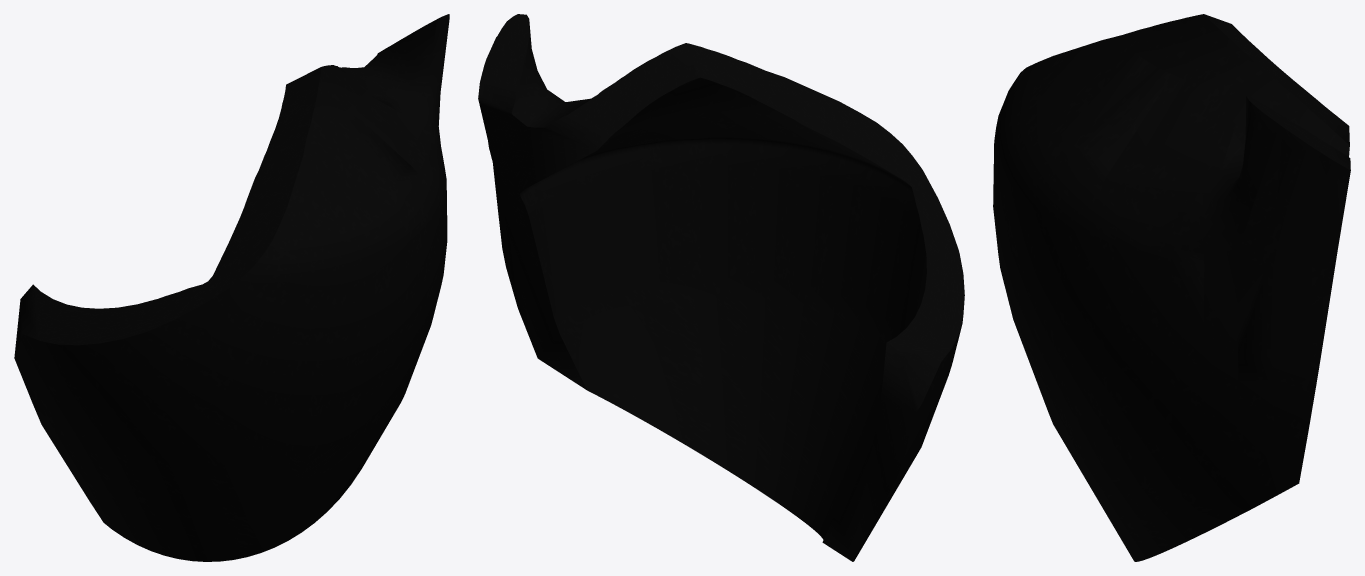
3 views of the same model, side by side, from view 1: azimuth 30°, elevation 25°; view 2: azimuth 150°, elevation 25°; view 3: azimuth 270°, elevation 25° (orthographic). The views are drawn at different scales.
Visible parts, largest first — view 1: Cylinder_cell.007; view 2: Cylinder_cell.007; view 3: Cylinder_cell.007.
Boxes of the visible parts, x1,y1,x2,y2 form: Cylinder_cell.007: (14, 14, 449, 561); Cylinder_cell.007: (478, 14, 964, 561); Cylinder_cell.007: (993, 14, 1350, 561).
Size of the model in its own units: 1.78 by 1.85 by 0.9831.
Materials: 1 (1 with a texture image).
